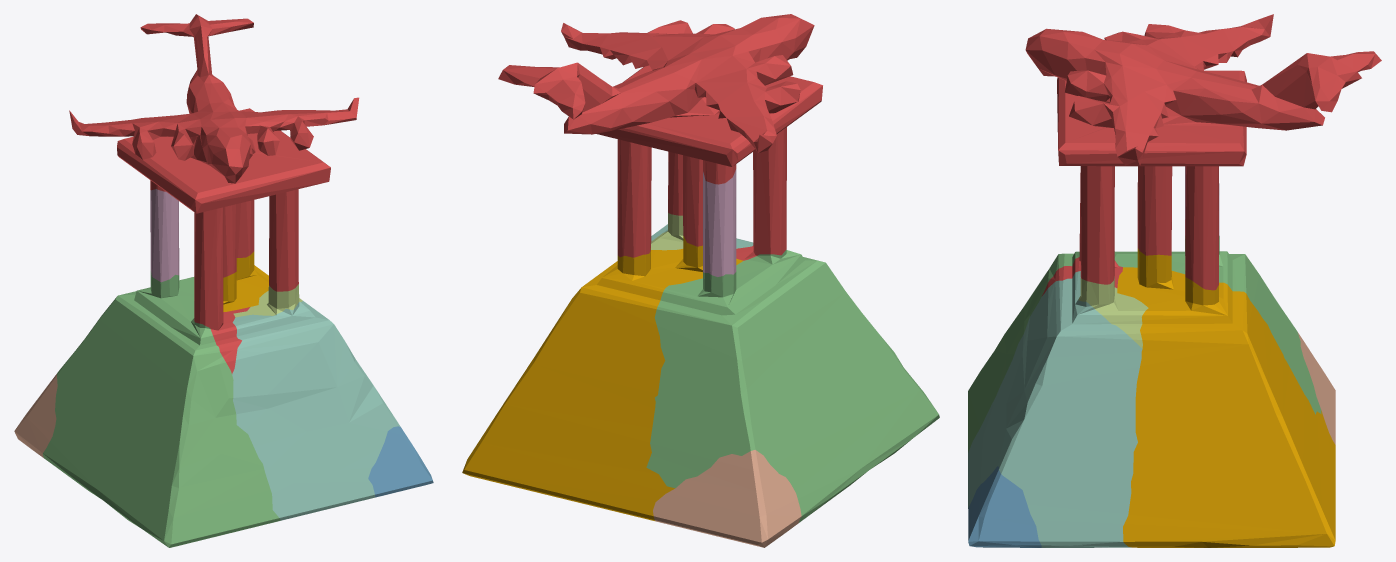
The model's file is mode_15_8pcs.glb.
The picture shows the model from 3 angles, left to right: view 1: azimuth 30°, elevation 25°; view 2: azimuth 150°, elevation 25°; view 3: azimuth 270°, elevation 25°; orthographic projection. The views are drawn at different scales.
Parts seen in each view (by area): view 1: piece_3.obj, piece_1.obj, piece_4.obj, piece_2.obj, piece_6.obj, piece_0.obj, piece_7.obj, piece_5.obj; view 2: piece_3.obj, piece_1.obj, piece_0.obj, piece_7.obj, piece_6.obj, piece_5.obj; view 3: piece_0.obj, piece_1.obj, piece_4.obj, piece_3.obj, piece_2.obj, piece_5.obj, piece_7.obj.
Boxes of the visible parts, bbox=[...] form: piece_3.obj: bbox=[42, 271, 280, 547]; piece_1.obj: bbox=[69, 14, 359, 373]; piece_4.obj: bbox=[232, 301, 400, 520]; piece_2.obj: bbox=[368, 426, 433, 497]; piece_6.obj: bbox=[150, 189, 179, 282]; piece_0.obj: bbox=[223, 251, 268, 311]; piece_7.obj: bbox=[14, 374, 57, 457]; piece_5.obj: bbox=[233, 284, 302, 317]; piece_3.obj: bbox=[646, 249, 939, 522]; piece_1.obj: bbox=[498, 14, 822, 260]; piece_0.obj: bbox=[462, 236, 743, 521]; piece_7.obj: bbox=[653, 450, 801, 547]; piece_6.obj: bbox=[703, 169, 736, 276]; piece_5.obj: bbox=[651, 213, 736, 250]; piece_0.obj: bbox=[1117, 248, 1335, 547]; piece_1.obj: bbox=[1025, 14, 1381, 295]; piece_4.obj: bbox=[968, 271, 1142, 547]; piece_3.obj: bbox=[968, 236, 1321, 452]; piece_2.obj: bbox=[968, 466, 1041, 547]; piece_5.obj: bbox=[1078, 276, 1148, 348]; piece_7.obj: bbox=[1297, 332, 1335, 444].
Bounding box in the file's own units: 0.7429 × 0.9999 × 0.8403.
